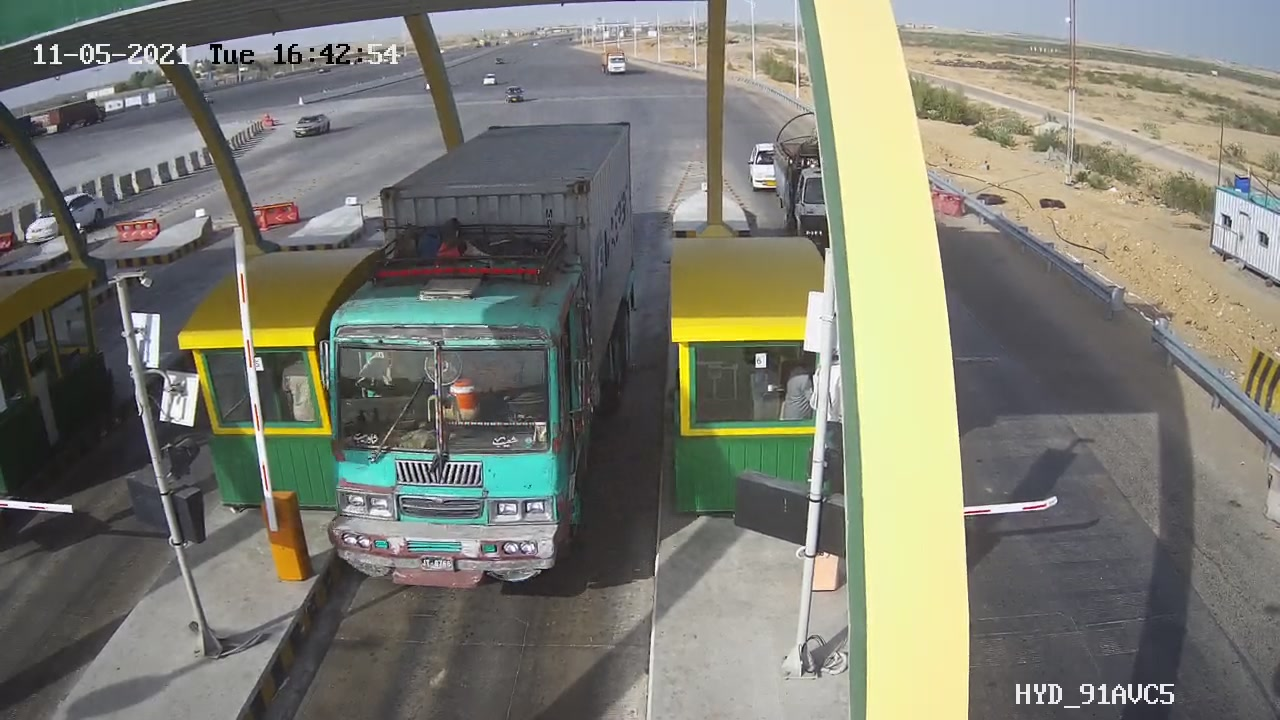F6: (309, 106, 663, 623)
